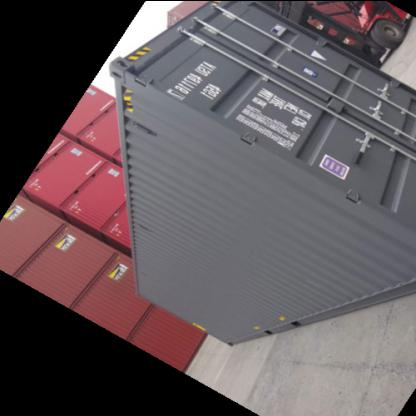Damage: (132, 216, 152, 236), (130, 264, 151, 282)
